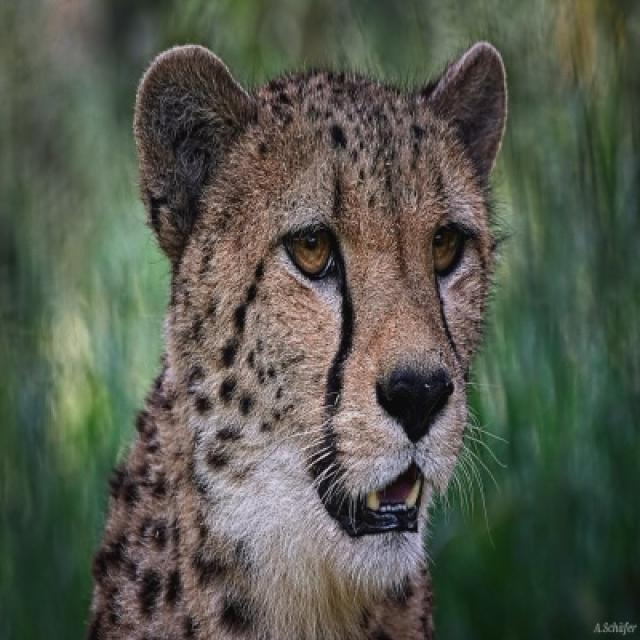Cheetah: (83, 42, 510, 638)
